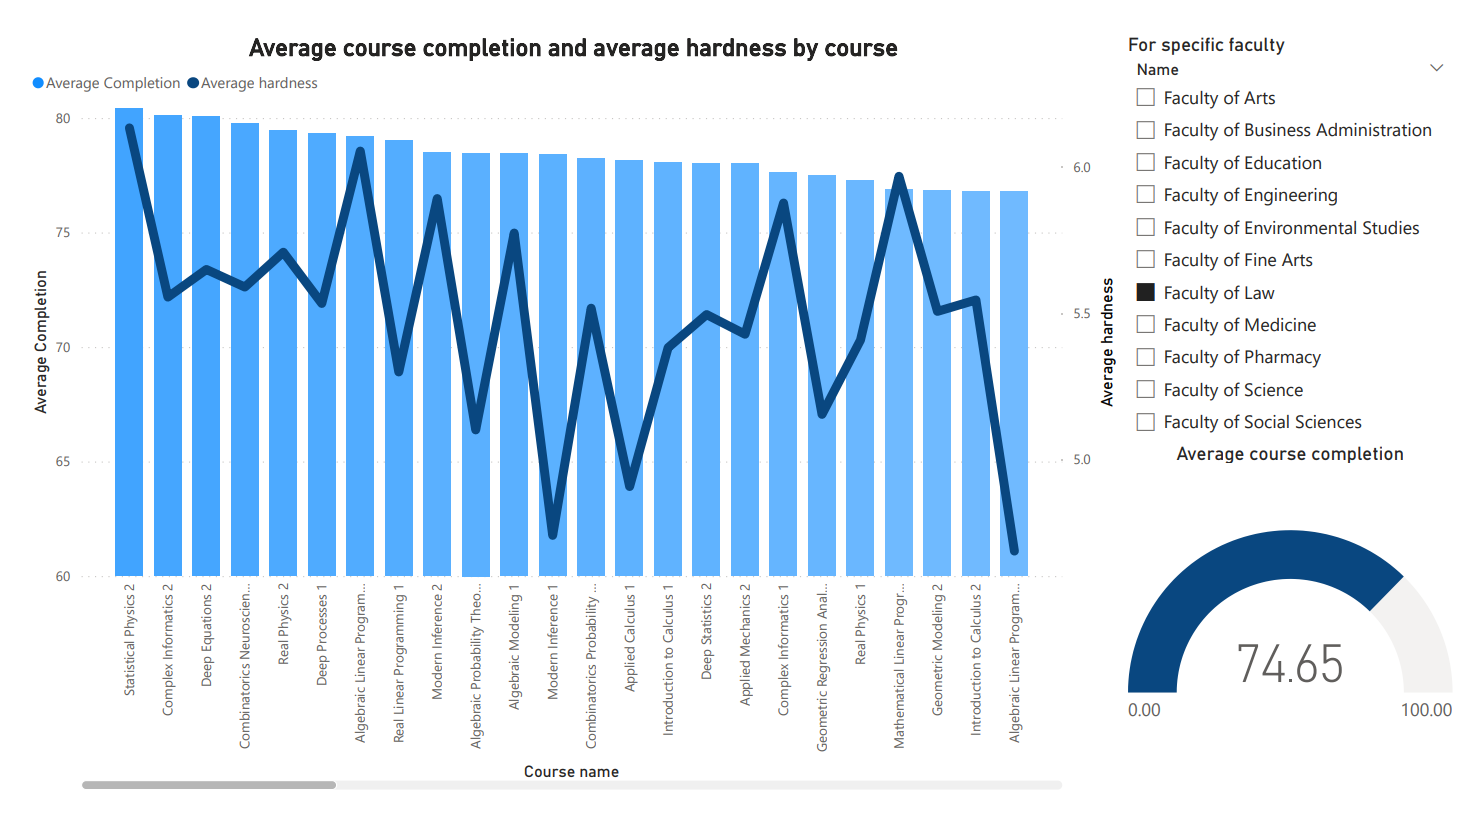

This screenshot's page, from the dashboard's own definition file:
{"tool":"powerbi","page":{"name":"Course completion - harndess rate","canvas":[1280,720],"ordinal":6},"visuals":[{"type":"lineClusteredColumnComboChart","fields":{"Category":["Dim Course.Name"],"Y":["Measures.Average Completion"],"Y2":["Measures.Average hardness"]},"box":[0,39.3,979.5,680.5],"z":0},{"type":"slicer","fields":{"Values":["Dim Faculty.Name"]},"box":[980.1,38.9,300.2,412.3],"z":2},{"type":"gauge","fields":{"Y":["Measures.Average Completion"]},"box":[980.1,404.5,300.2,315.8],"z":3}]}

Visuals, with their boxes in screenshot pixels (x1, y1, x2, y2), scaled from the page's 1280x720 canvas onto the 1478x818 screenshot:
lineClusteredColumnComboChart - Dim Course.Name x Measures.Average Completion: BBox(0, 45, 1131, 817)
slicer - Dim Faculty.Name: BBox(1132, 44, 1477, 513)
gauge - Measures.Average Completion: BBox(1132, 460, 1477, 817)
